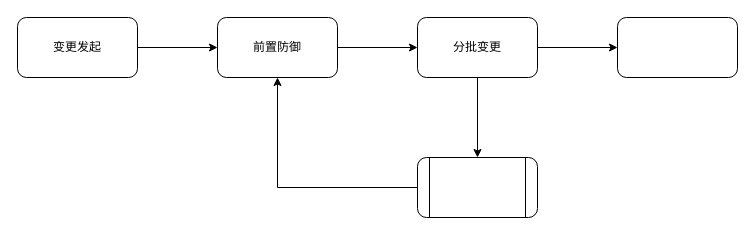
The diagram is 755 pixels wide and 235 high, and some of its shapes have lost their labels. Here are the shapes that lost their labels. From the top down, the centre of each, then its label:
At (677,47): "后置防御".
At (477,187): "变更进度订阅".
